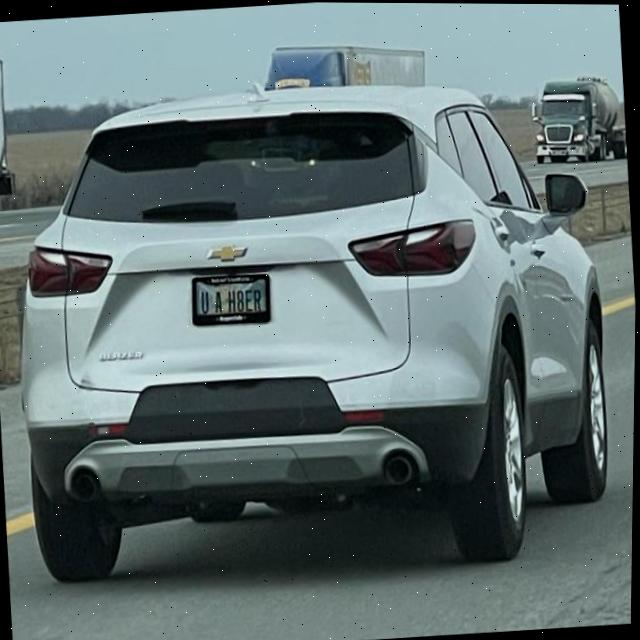LicensePlate: (192, 273, 272, 325)
